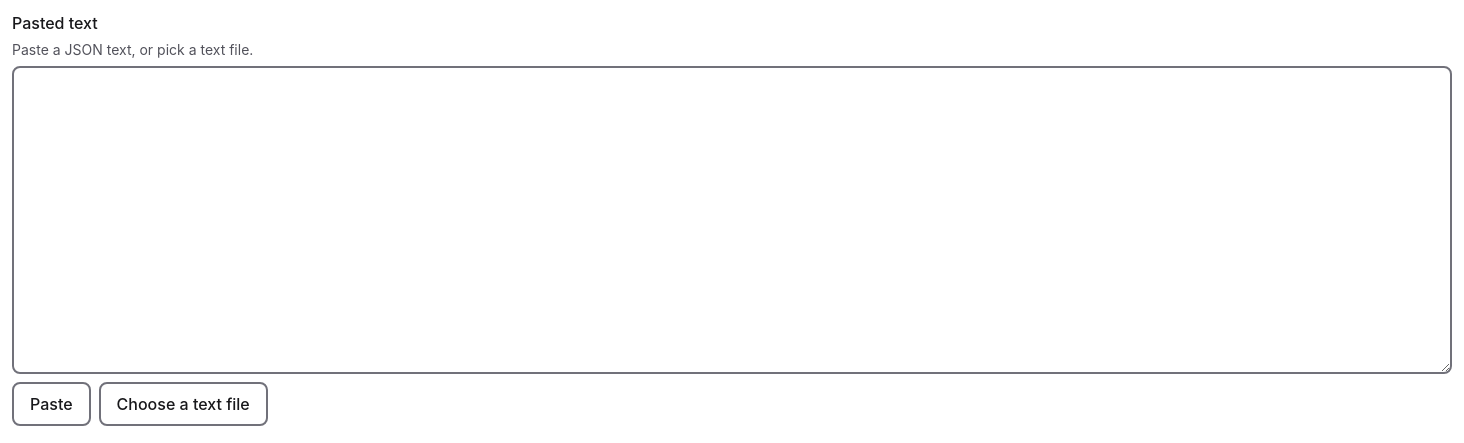
PasteSample › keeps the pasted text
Click the text box labelled "Pasted text": coordinates (732, 220) [12,66,1452,374]
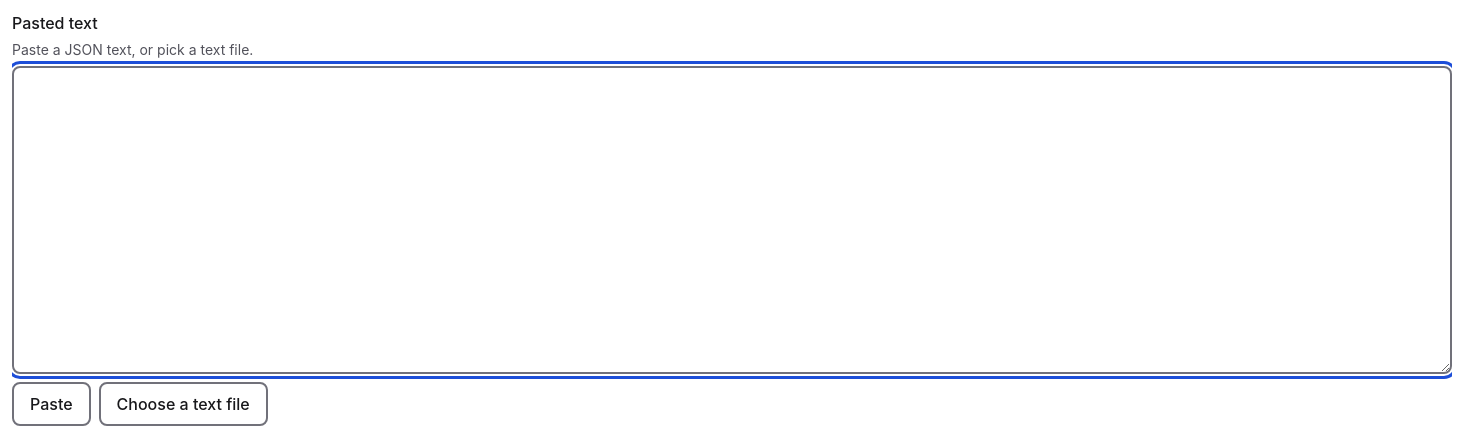
Type keys "{\"format\": \"1.0\"}"
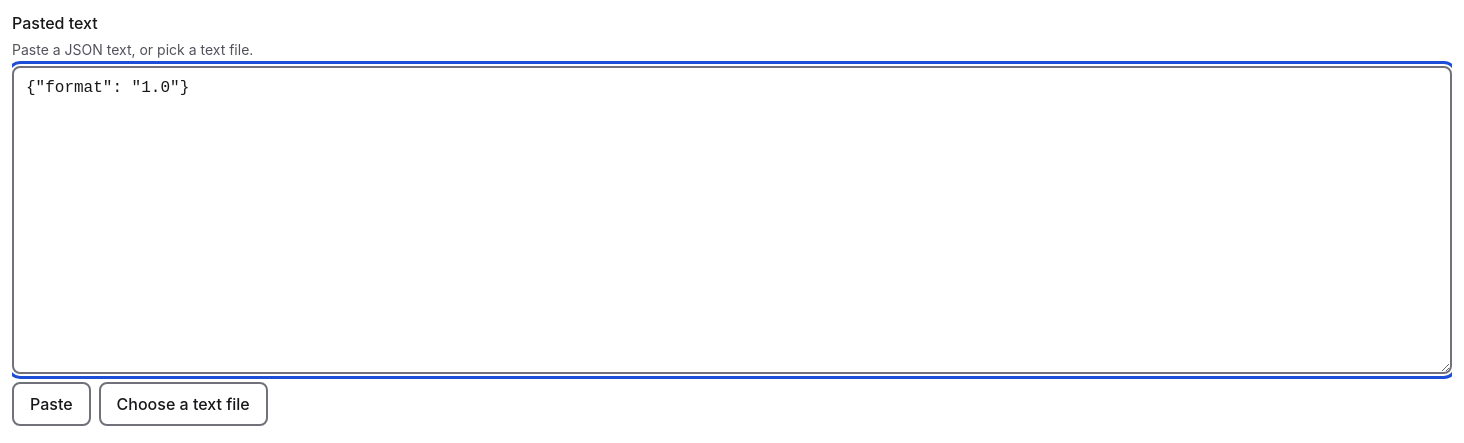
Result: the text box labelled "Pasted text" holds "{\"format\": \"1.0\"}"
